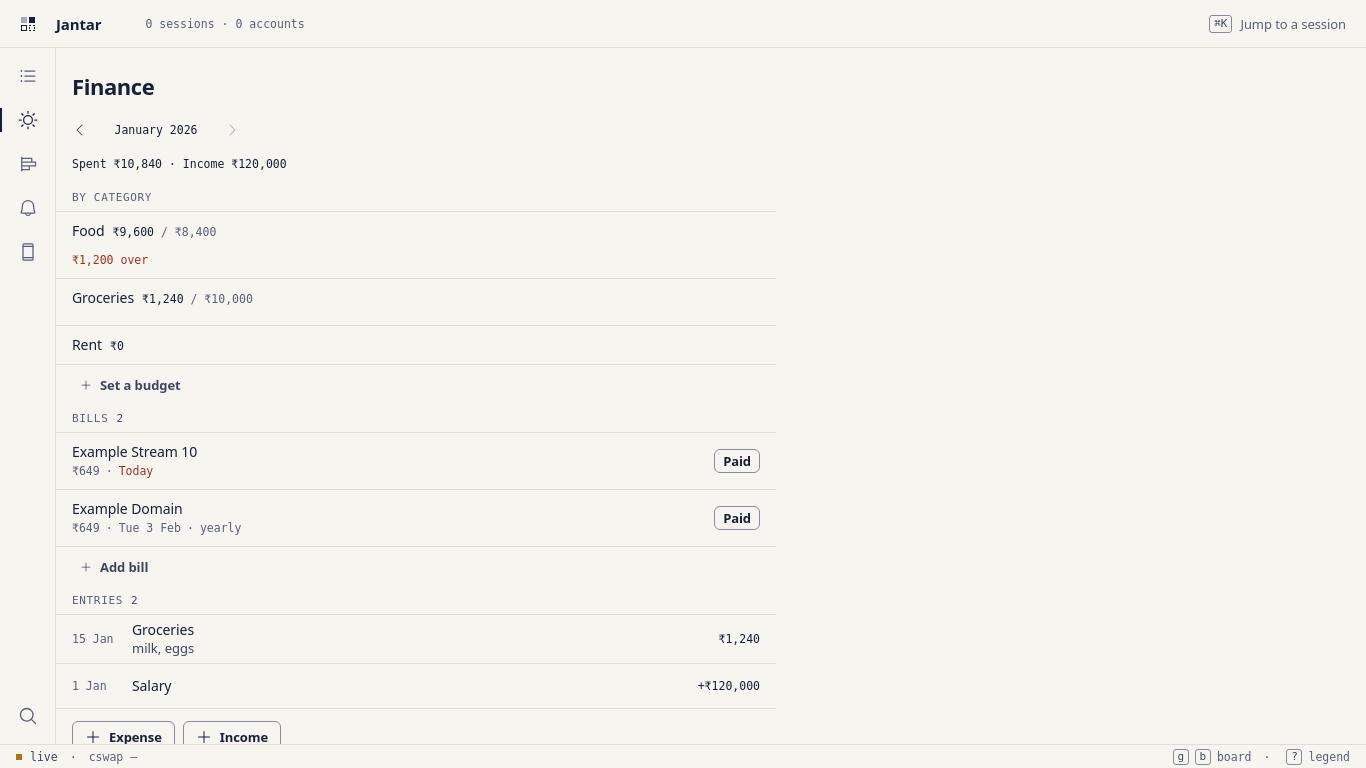
Test: Finance: states and totals › steps back a month and never past this one
Expected: the text "January 2026" is shown, [114,123,198,137]
Expected: the button named "Next month" is disabled, [216,114,248,146]
Click the button named "Previous month".
click(80, 130)  # box [64,114,96,146]
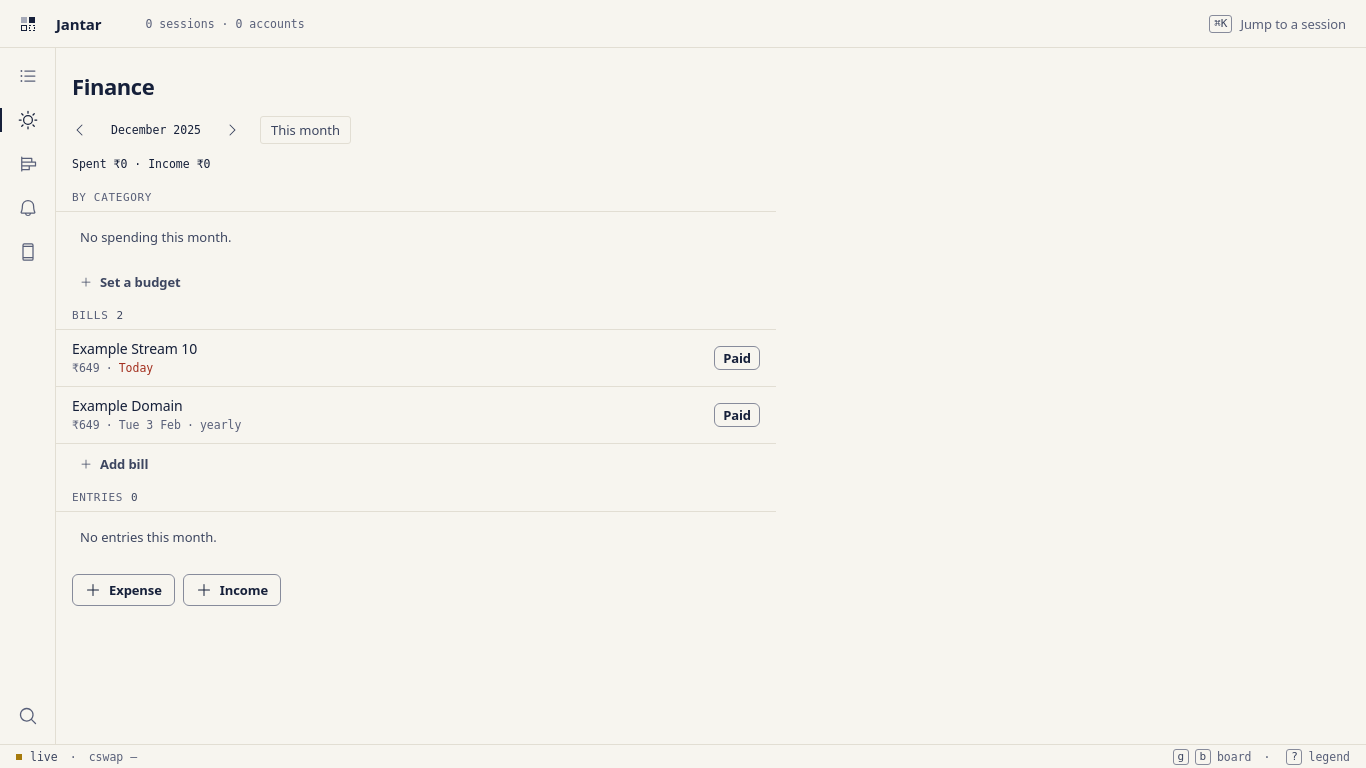
Expected: the text "December 2025" is shown, [111,123,201,137]
